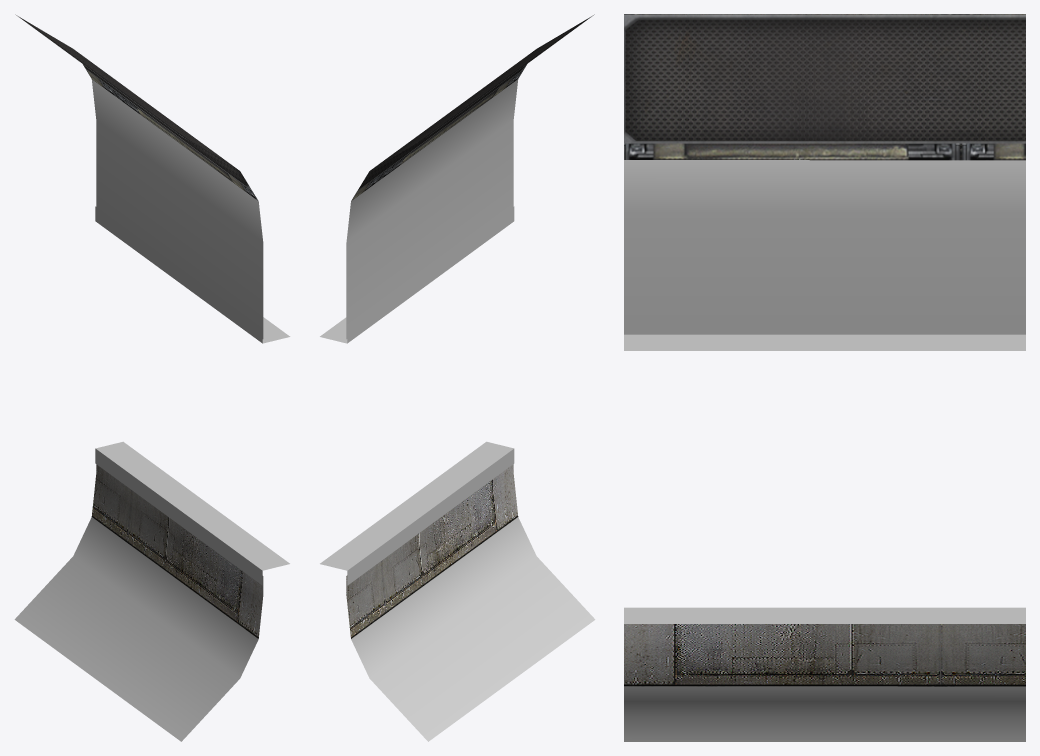
File: Wall_L_Mid4mts_03.fbx
The picture shows the model from 3 angles, left to right: view 1: azimuth 30°, elevation 25°; view 2: azimuth 150°, elevation 25°; view 3: azimuth 270°, elevation 25°; orthographic projection. The views are drawn at different scales.
Visible parts, largest first — view 1: Wall_L_Mid4mts_03; view 2: Wall_L_Mid4mts_03; view 3: Wall_L_Mid4mts_03.
Boxes of the visible parts, x1,y1,x2,y2 form: Wall_L_Mid4mts_03: (14,14,290,741); Wall_L_Mid4mts_03: (320,14,595,741); Wall_L_Mid4mts_03: (624,14,1025,741).
Bounding box in the file's own units: 75.4 × 400 × 200.
